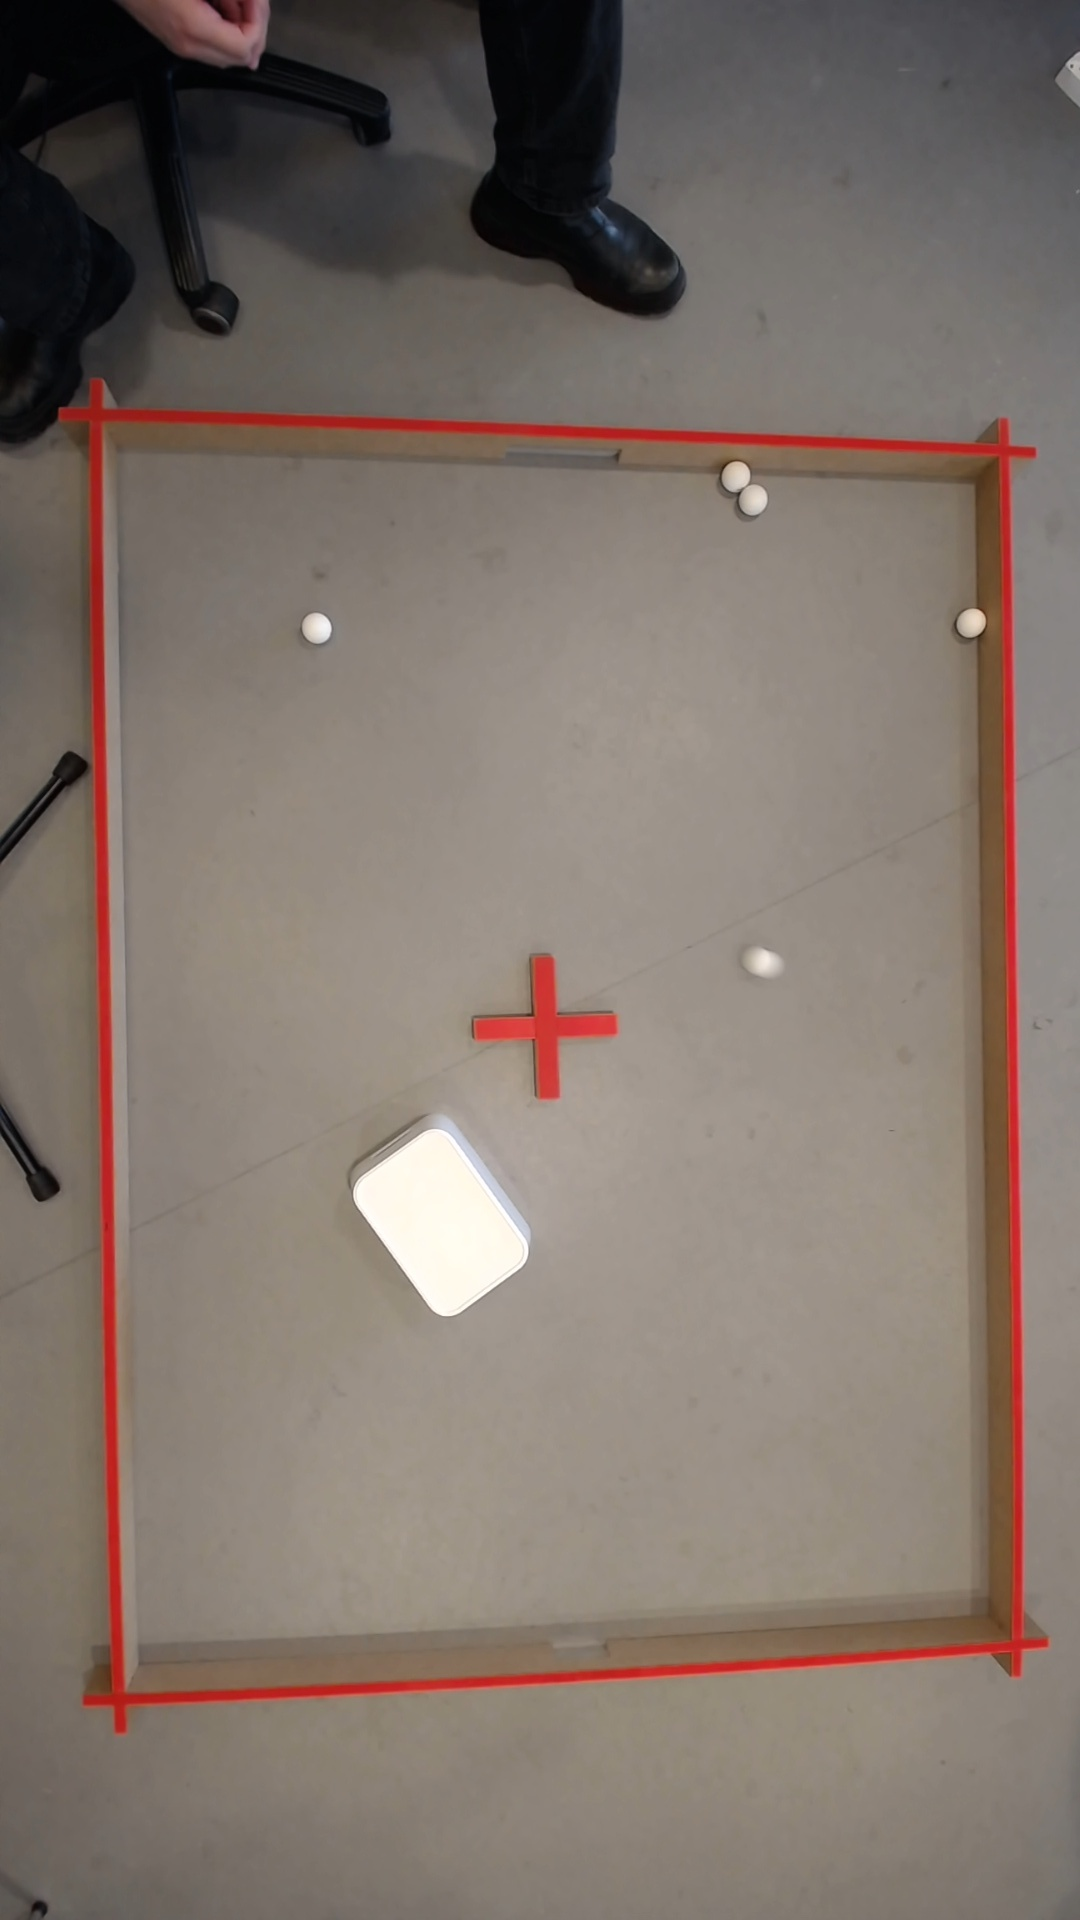balls: (342, 1113, 546, 1325), (301, 609, 335, 645), (748, 947, 781, 978), (956, 604, 989, 636), (741, 483, 771, 514)
car: (724, 462, 753, 489)
